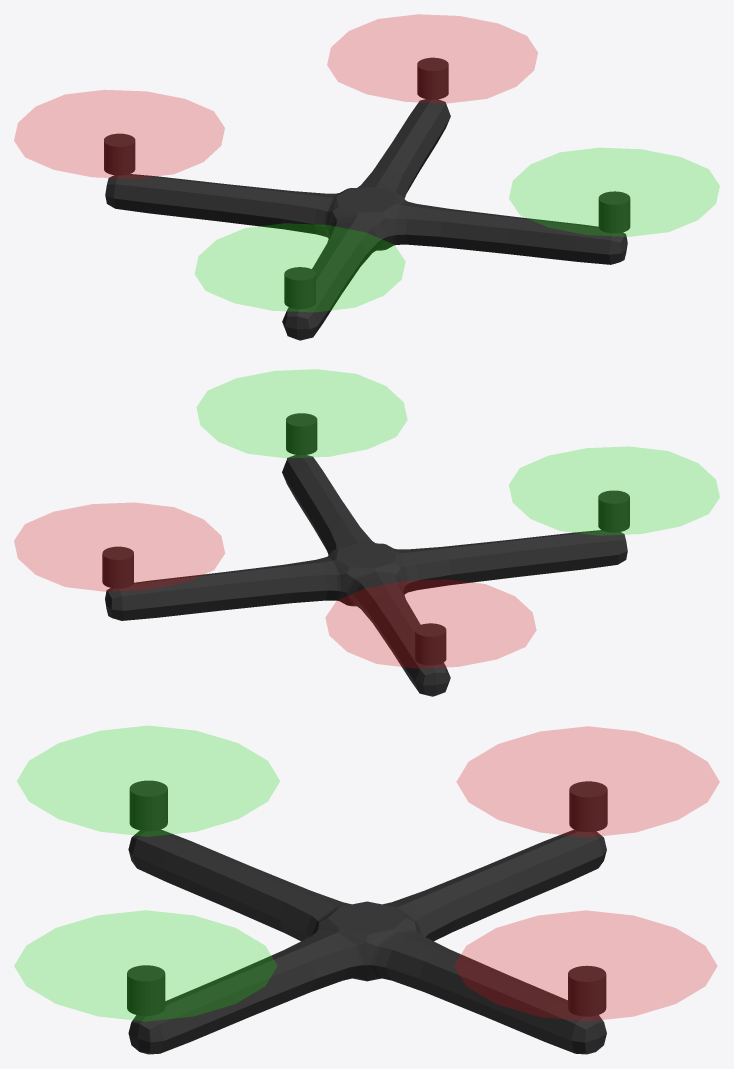
File: quadx.glb
3 views of the same model, one above another, from view 1: azimuth 30°, elevation 25°; view 2: azimuth 150°, elevation 25°; view 3: azimuth 270°, elevation 25° (orthographic). The views are drawn at different scales.
Parts seen in each view (by area): view 1: Cube, Plane.003, Plane.002, Plane, Plane.001, Cylinder.002, Cylinder.003, Cylinder, Cylinder.001; view 2: Cube, Plane, Plane.002, Plane.001, Plane.003, Cylinder.001, Cylinder, Cylinder.003, Cylinder.002; view 3: Cube, Plane.002, Plane.001, Plane.003, Plane, Cylinder.001, Cylinder, Cylinder.003, Cylinder.002.
Part boxes in pixels (box(x1,y1,x2,y2)): Cube: box(105, 99, 627, 340); Plane.003: box(14, 90, 224, 178); Plane.002: box(509, 148, 719, 236); Plane: box(195, 223, 404, 311); Plane.001: box(327, 14, 537, 103); Cylinder.002: box(598, 191, 630, 233); Cylinder.003: box(104, 133, 135, 175); Cylinder: box(417, 57, 448, 99); Cylinder.001: box(284, 267, 315, 308); Cube: box(105, 455, 627, 696); Plane: box(509, 446, 719, 535); Plane.002: box(197, 369, 406, 457); Plane.001: box(14, 502, 224, 591); Plane.003: box(326, 579, 535, 668); Cylinder.001: box(598, 490, 629, 532); Cylinder: box(102, 546, 133, 588); Cylinder.003: box(415, 623, 446, 665); Cylinder.002: box(286, 413, 317, 455); Cube: box(128, 829, 606, 1054); Plane.002: box(14, 910, 276, 1021); Plane.001: box(454, 910, 716, 1021); Plane.003: box(457, 726, 719, 837); Plane: box(17, 726, 279, 836); Cylinder.001: box(129, 780, 167, 831); Cylinder: box(568, 965, 606, 1016); Cylinder.003: box(569, 781, 607, 831); Cylinder.002: box(127, 965, 165, 1015).
Size of the model in its own units: 2.49 by 0.3559 by 2.5.
